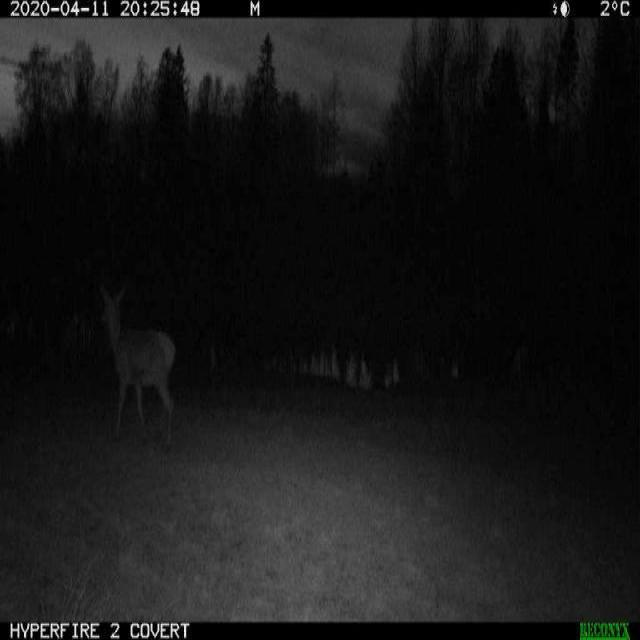deer: (96, 275, 194, 461)
